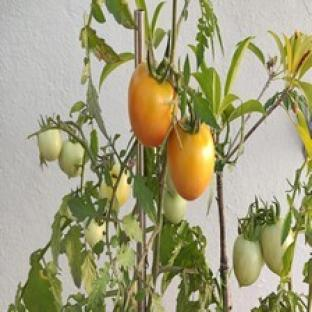Tomato: (129, 63, 175, 146), (168, 123, 214, 200), (261, 219, 293, 275), (233, 236, 263, 286), (59, 141, 84, 176), (163, 190, 186, 224), (99, 165, 119, 203), (38, 130, 62, 161), (84, 219, 105, 247)
